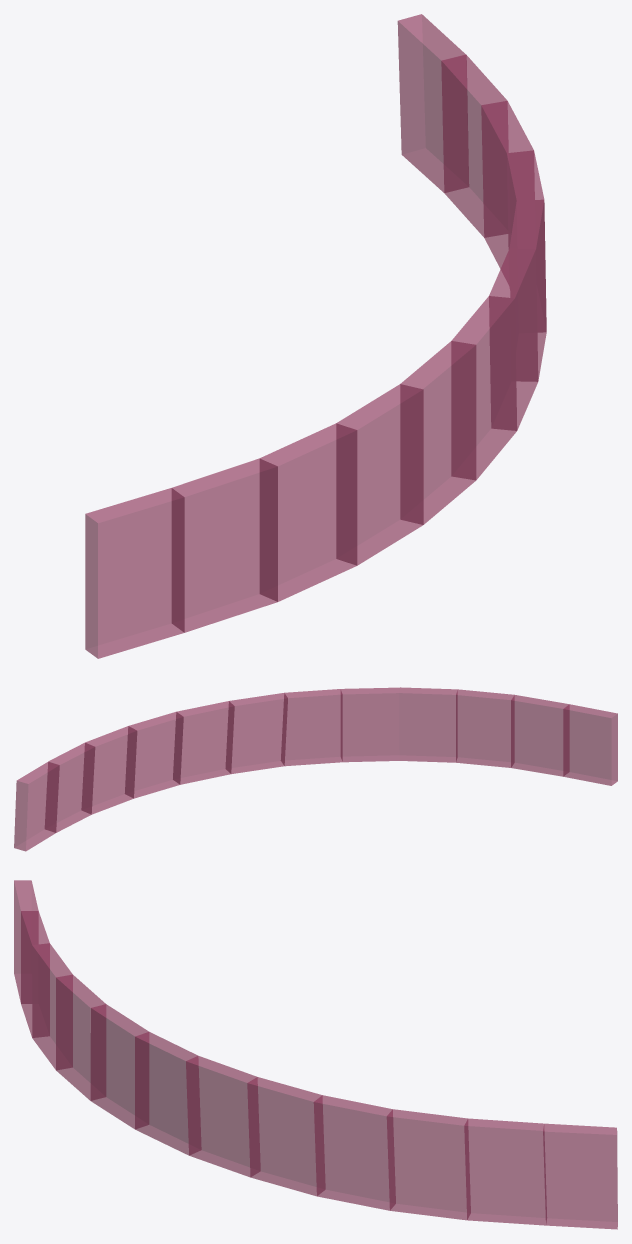
Rendered from SM_Bld_Stairs_Railing_Round_02_Collision.fbx.
The picture shows the model from 3 angles, top to bottom: view 1: azimuth 30°, elevation 25°; view 2: azimuth 150°, elevation 25°; view 3: azimuth 270°, elevation 25°; orthographic projection. The views are drawn at different scales.
Visible parts, largest first — view 1: SM_Bld_Stairs_Railing_Round_02_Collision; view 2: SM_Bld_Stairs_Railing_Round_02_Collision; view 3: SM_Bld_Stairs_Railing_Round_02_Collision.
Part boxes in pixels (x1,y1,x2,y2): SM_Bld_Stairs_Railing_Round_02_Collision: [85, 14, 546, 658]; SM_Bld_Stairs_Railing_Round_02_Collision: [14, 687, 617, 851]; SM_Bld_Stairs_Railing_Round_02_Collision: [14, 880, 617, 1229].
Bounding box in the file's own units: 512 × 88.13 × 509.
